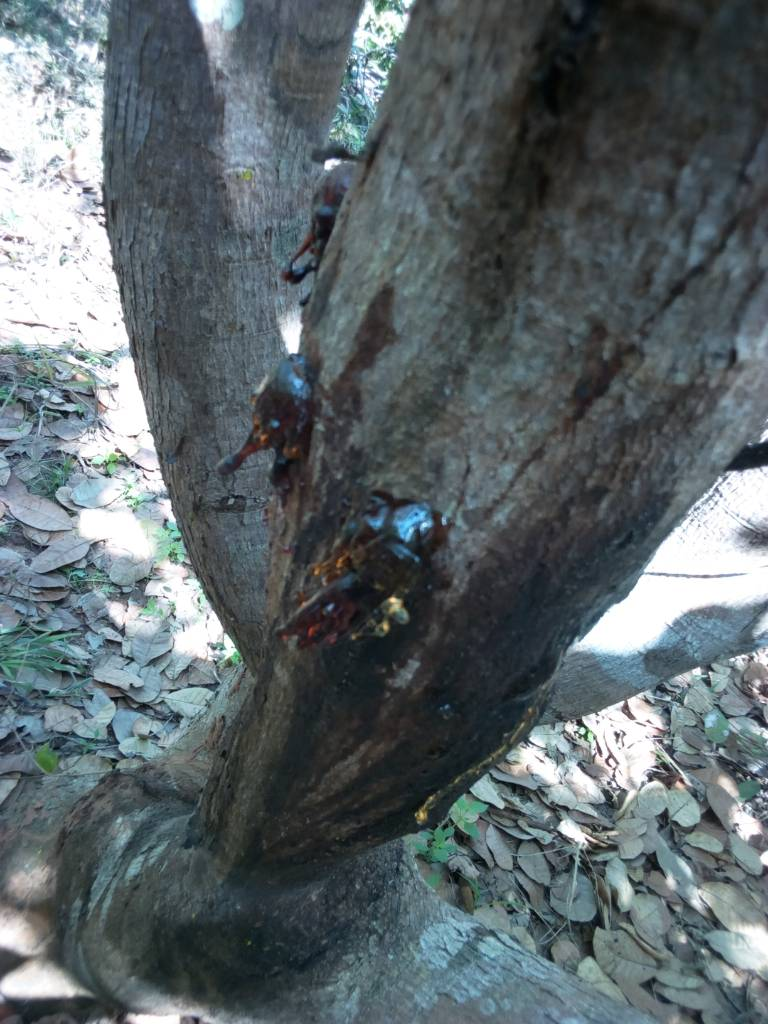Gommose: (86, 588, 555, 980), (269, 505, 469, 663), (225, 364, 311, 475)
